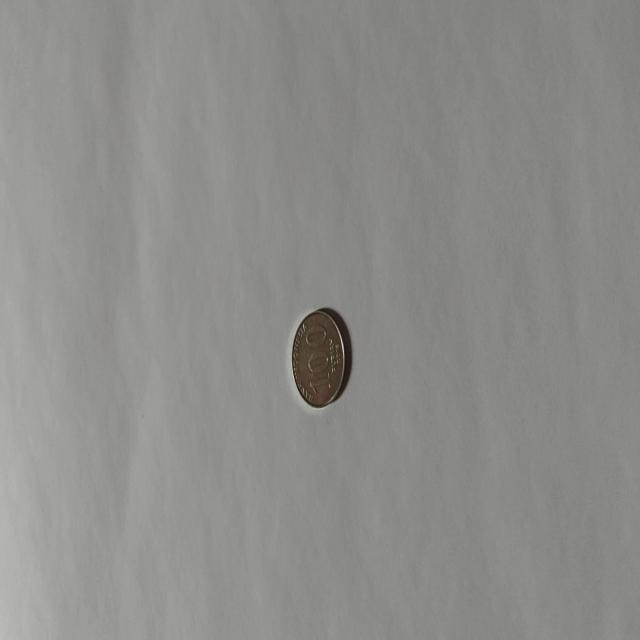seratus rupiah: (290, 308, 346, 408)
